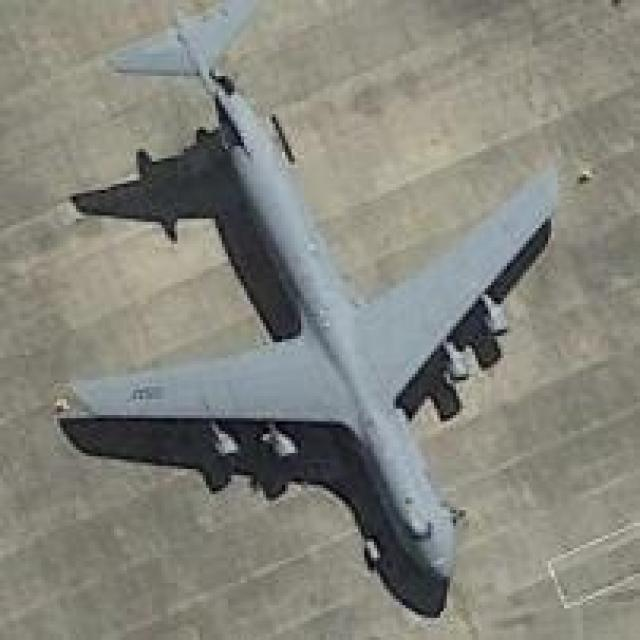C-5_TopDown: (47, 0, 564, 618)
